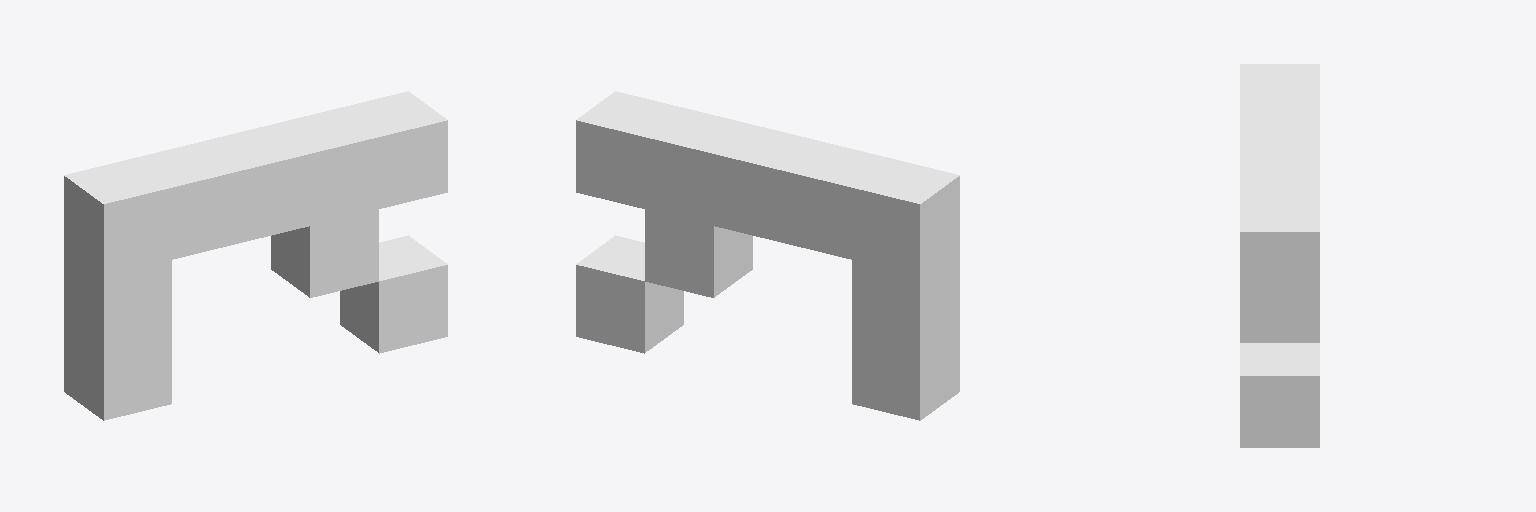
File: RusGun.obj
3 views of the same model, side by side, from view 1: azimuth 30°, elevation 25°; view 2: azimuth 150°, elevation 25°; view 3: azimuth 270°, elevation 25° (orthographic).
Size of the model in its own units: 5 by 3 by 1.